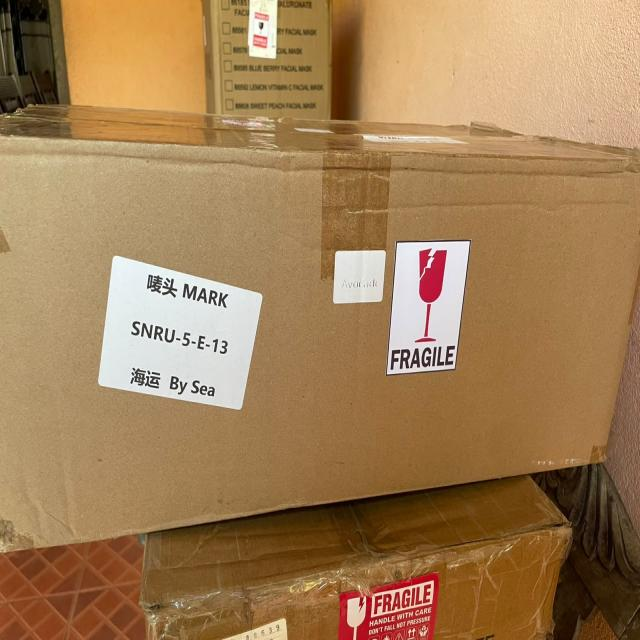carton_box: (0, 84, 640, 563), (128, 486, 588, 640)
export_mark_label: (96, 247, 267, 417)
fragile_label: (384, 224, 473, 384), (331, 573, 458, 640)
package_damage: (500, 504, 589, 566), (136, 583, 177, 633)
